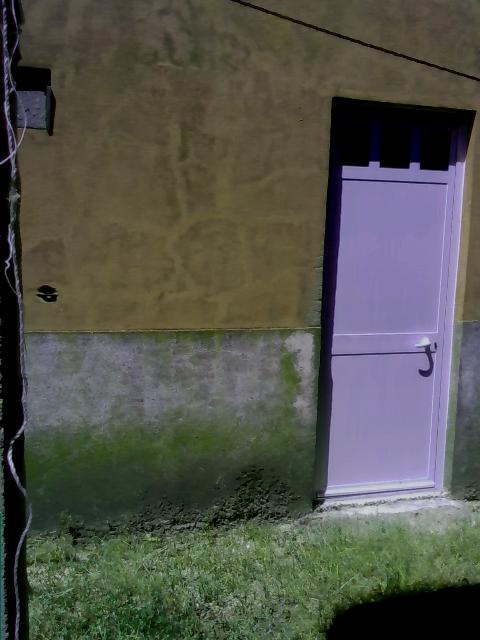closed_door: (314, 96, 472, 505)
